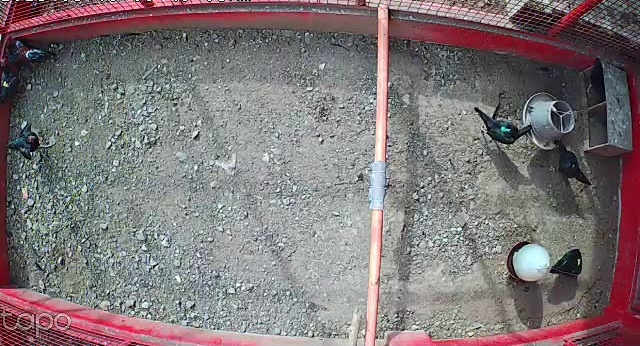Chicken: (470, 104, 533, 148), (546, 135, 595, 189), (6, 121, 48, 163), (545, 246, 586, 279), (0, 61, 28, 108)
Rooster: (2, 38, 67, 71)
Saddle_Color_Yellow: (0, 79, 12, 88)
